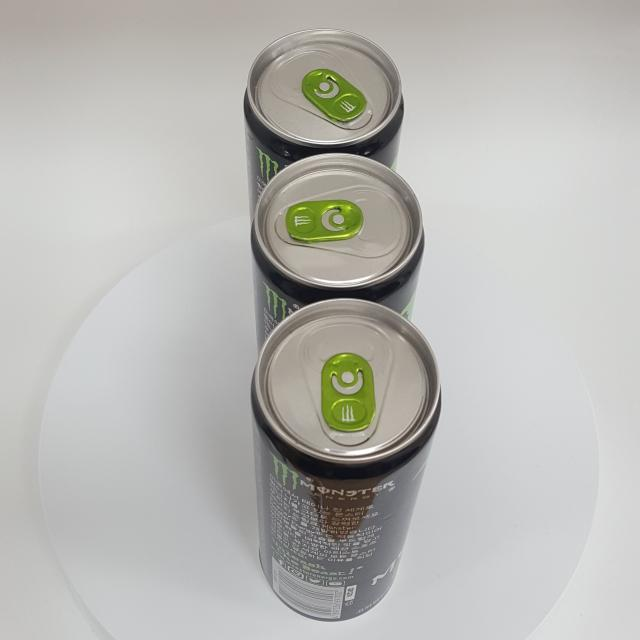--------355ML: (250, 298, 442, 622)
